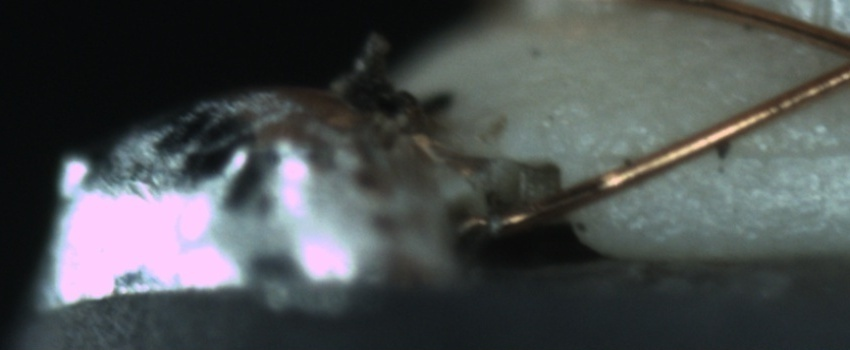CL: (829, 28, 850, 84)
DL: (700, 118, 850, 187)
